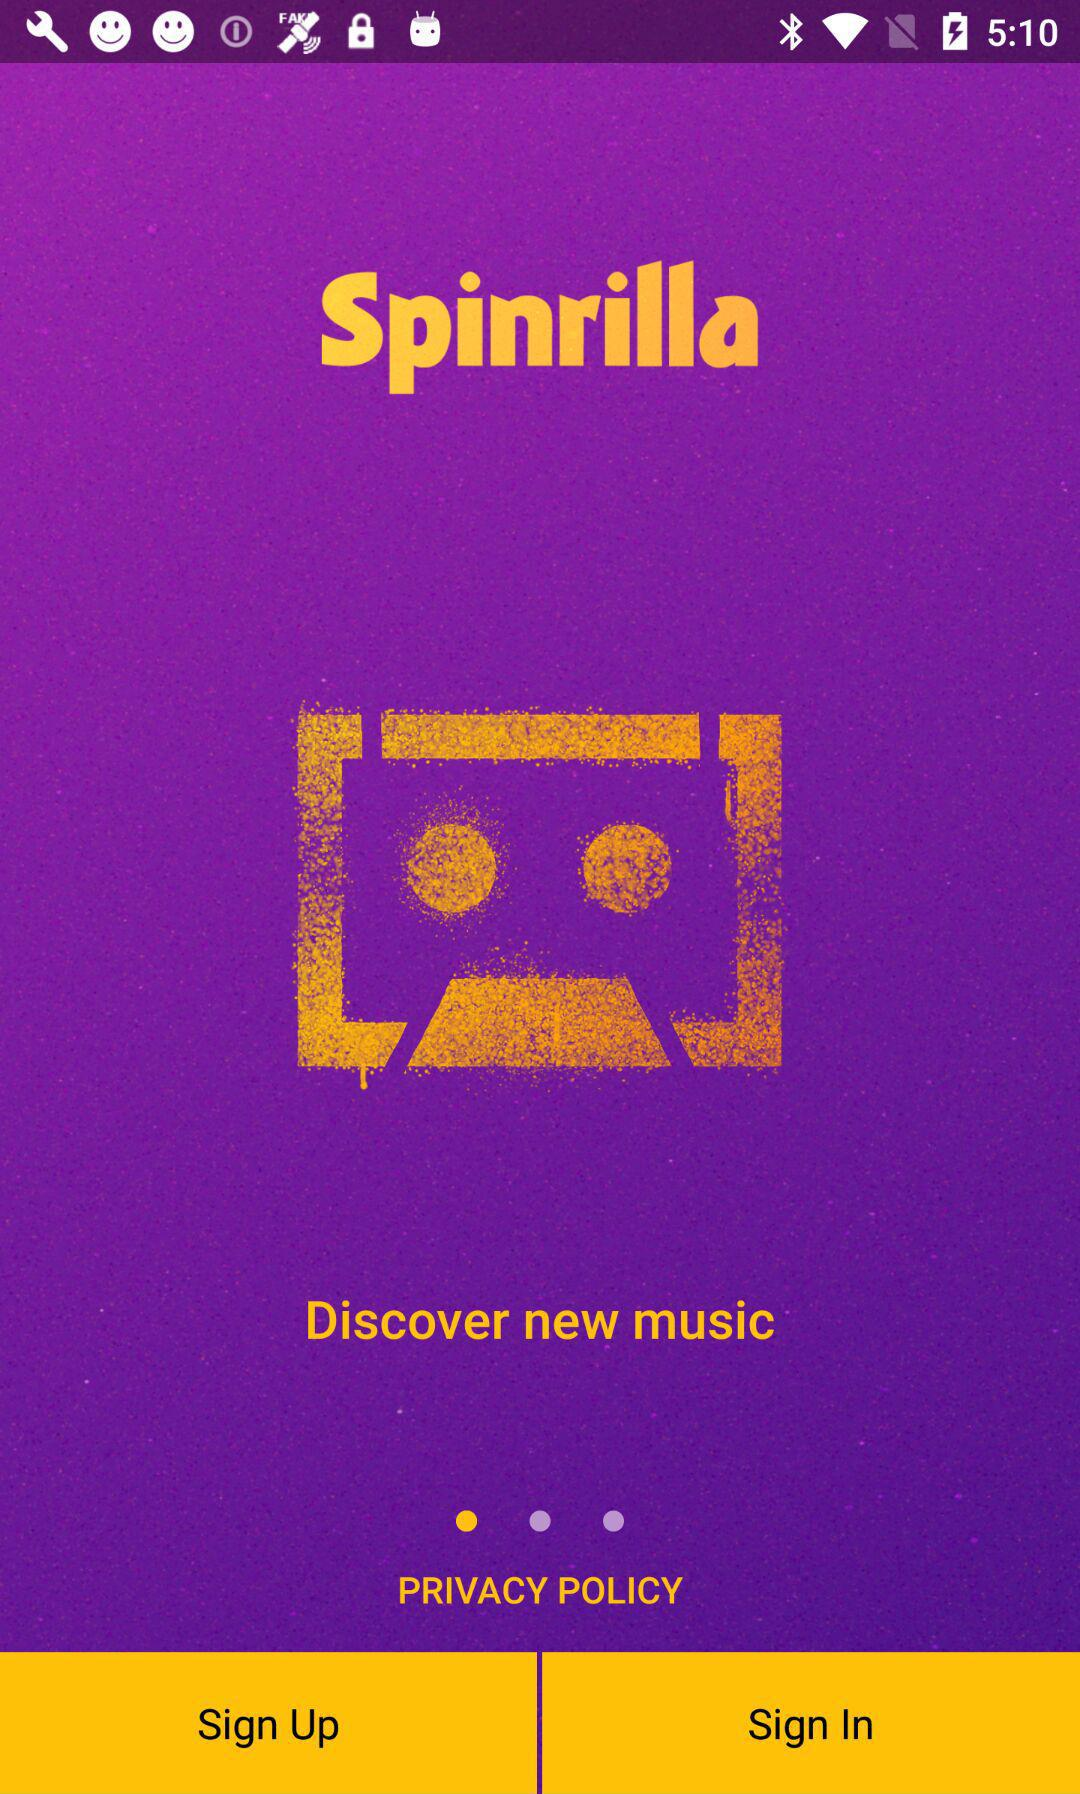Image: (292, 698, 784, 1092), (322, 259, 760, 396)
PageIndicator: (454, 1508, 626, 1534)
Text: (307, 1299, 776, 1342), (398, 1574, 685, 1606)
TextButton: (542, 1652, 1080, 1794), (1, 1652, 538, 1794)
UpperTaskBar: (1, 1, 1080, 64)
